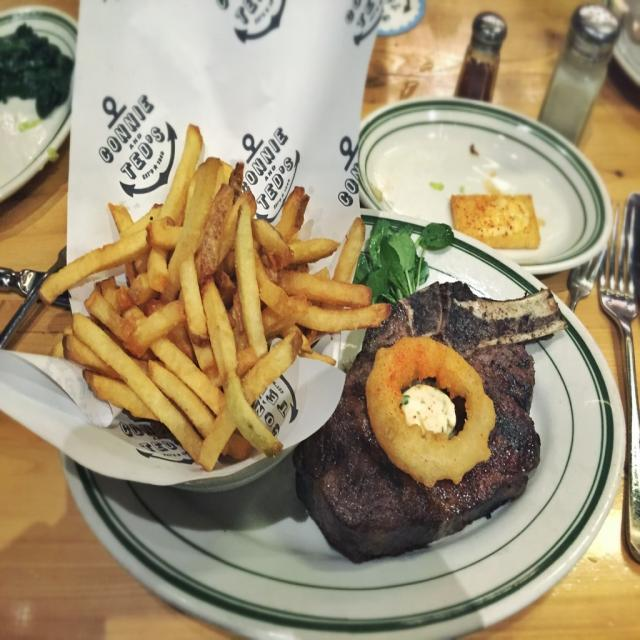French fries: (73, 320, 212, 471), (196, 330, 305, 468), (116, 292, 232, 420), (202, 278, 283, 460), (254, 261, 387, 337), (146, 120, 204, 294), (38, 225, 154, 301), (162, 150, 220, 301), (150, 359, 227, 458), (229, 197, 274, 361), (197, 268, 235, 390), (204, 160, 246, 270), (323, 216, 367, 314), (274, 273, 372, 305), (199, 182, 230, 278), (249, 213, 293, 269), (110, 203, 139, 285), (85, 288, 130, 339), (275, 185, 303, 241), (148, 214, 186, 255), (287, 235, 342, 261), (287, 188, 312, 242), (297, 347, 338, 371), (100, 265, 116, 309), (260, 302, 276, 332)
